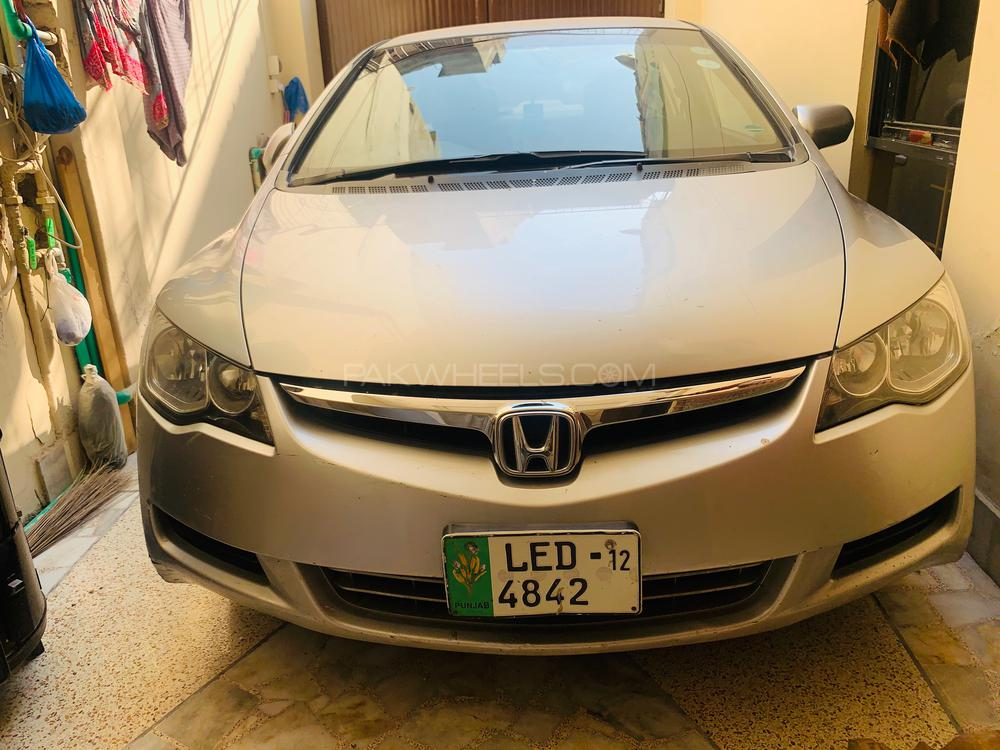plate: (439, 525, 647, 626)
